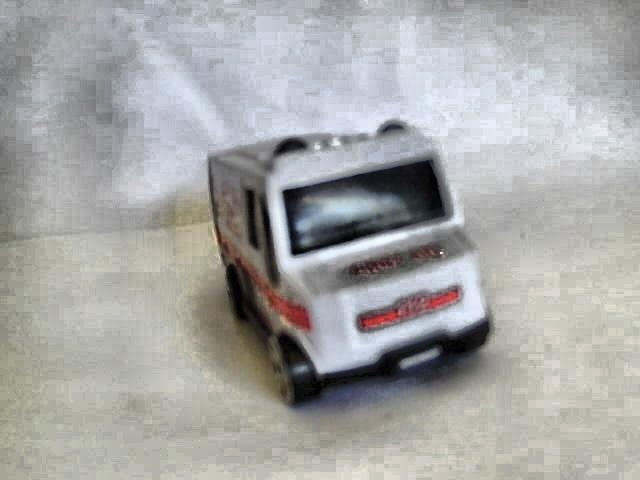ambulance: (206, 119, 491, 406)
